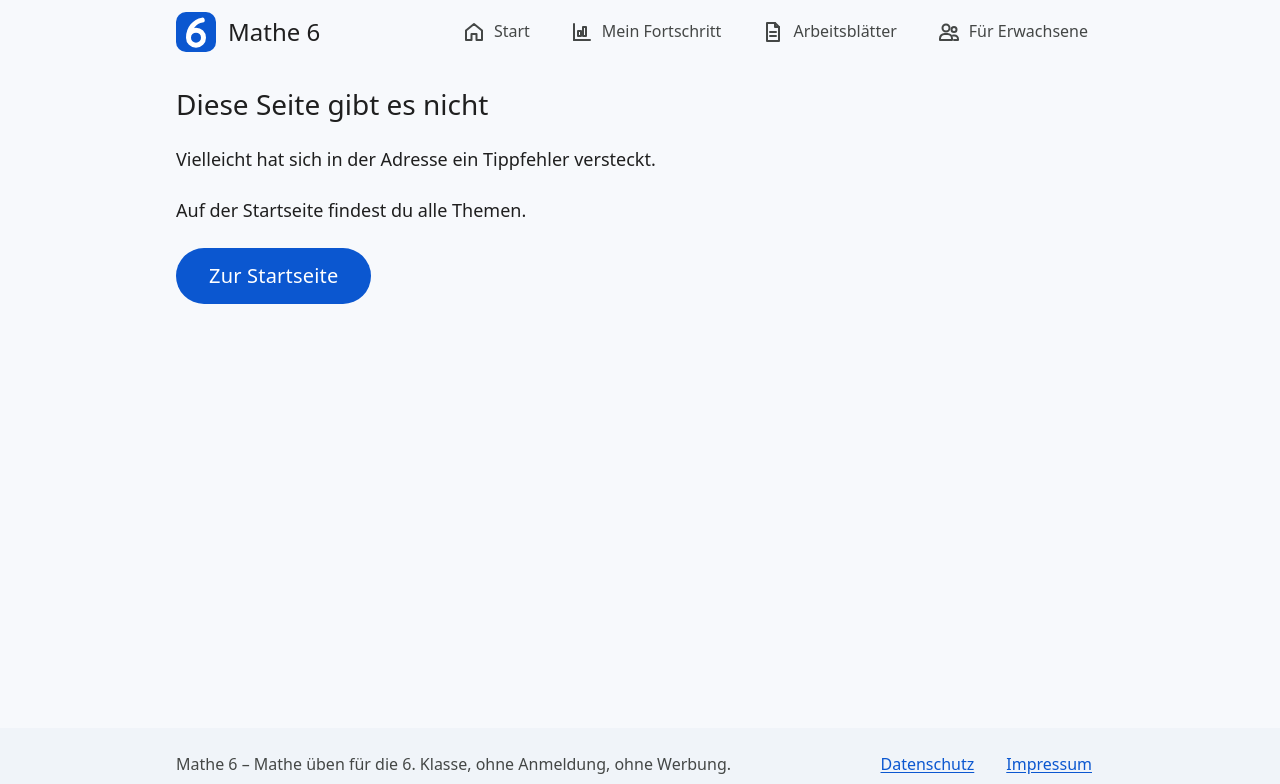
router › shows a 404 page for unknown paths
Expected: the heading reads "Diese Seite gibt es nicht", [176,85,488,123]
Click the link "Zur Startseite" at (274, 276), box [176,248,372,304]
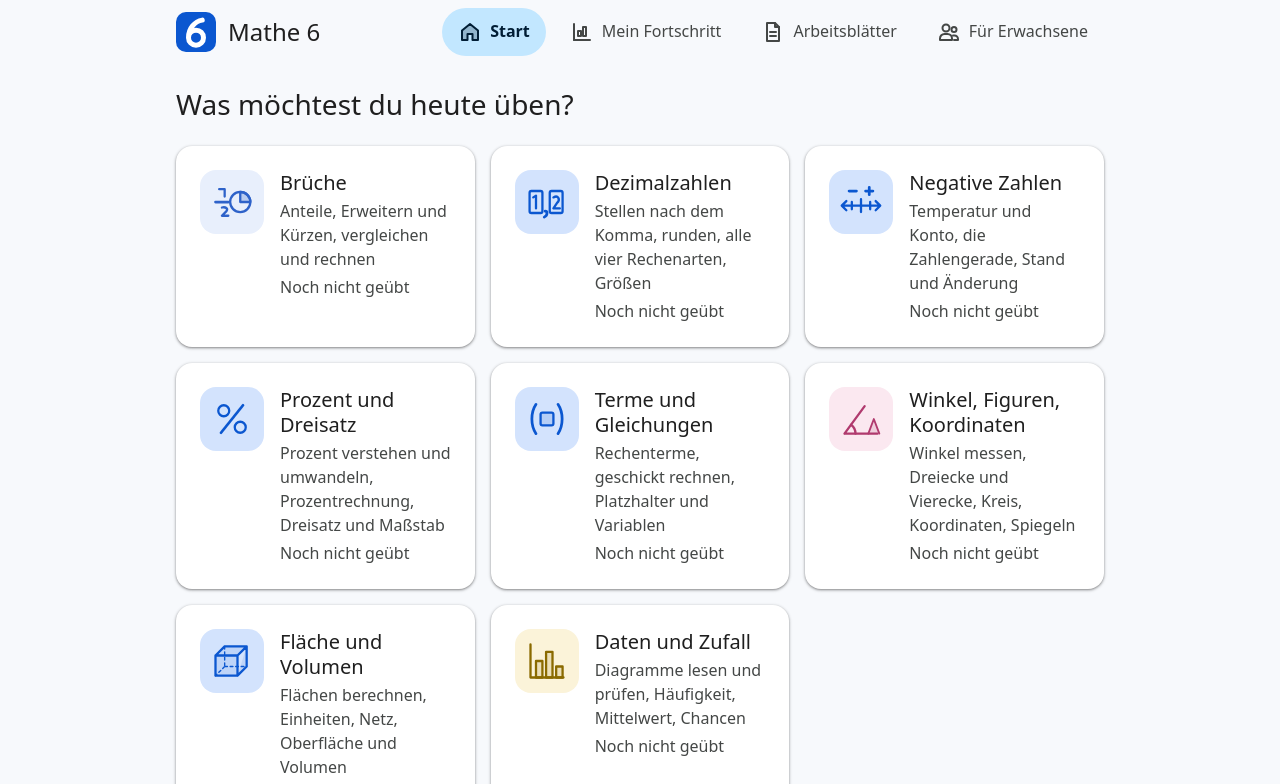
Result: the heading reads "Was möchtest du heute üben?" at [176,85,574,123]
